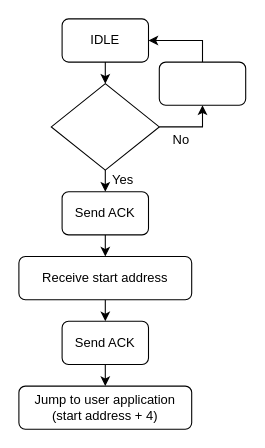
The diagram is 265 pixels wide and 448 high, and some of its shapes have lost their labels. The centre of each missing label's shape, as x and y in pixels:
"Receive 0x21+0xDE" belongs at (104,126).
"Send NACK" belongs at (202,83).
